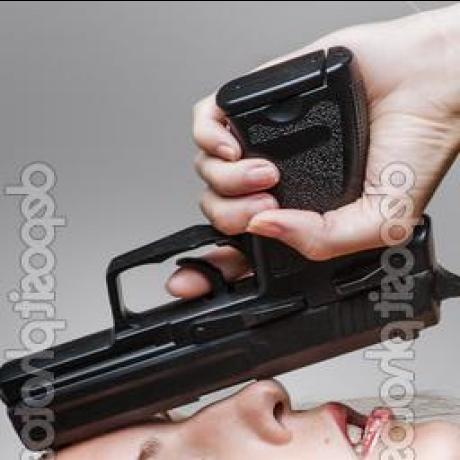1: (37, 1, 460, 460)
weapon: (0, 39, 460, 453)
